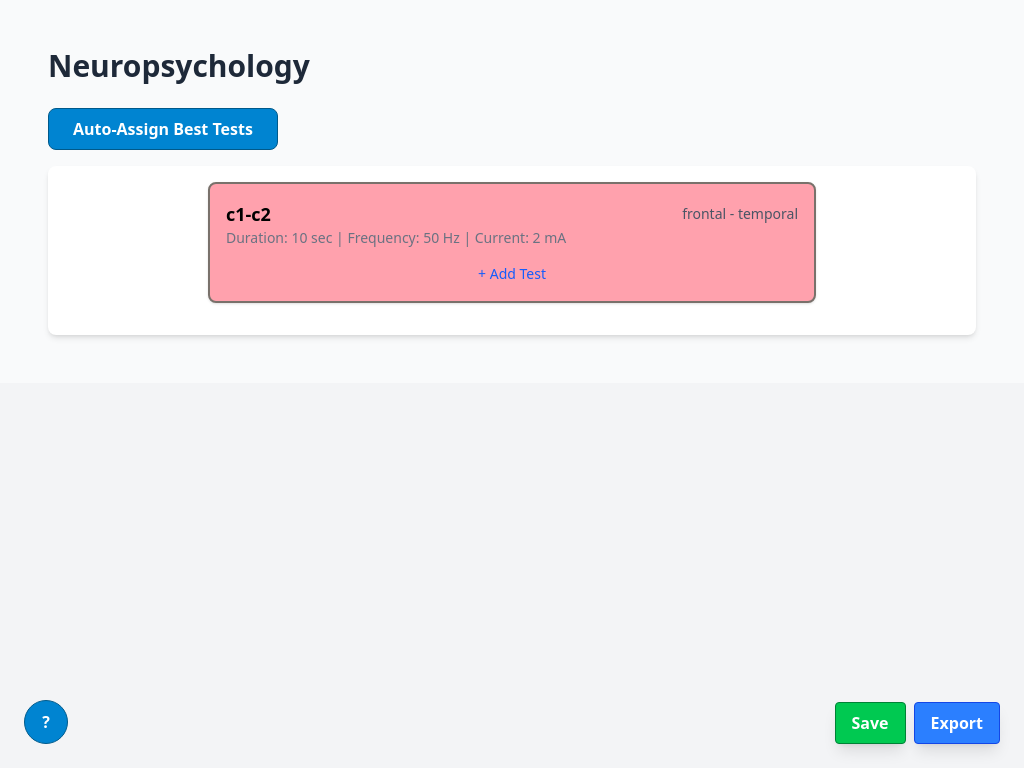
Test: FunctionalTestSelection › shows 'No tests available' in popup if none
The width and height of the screenshot is (1024, 768).
What coordinates should you click on to do the following:
click the button "+ Add Test"
I would click on:
 (512, 274)
Its box is [226,264,798,284].
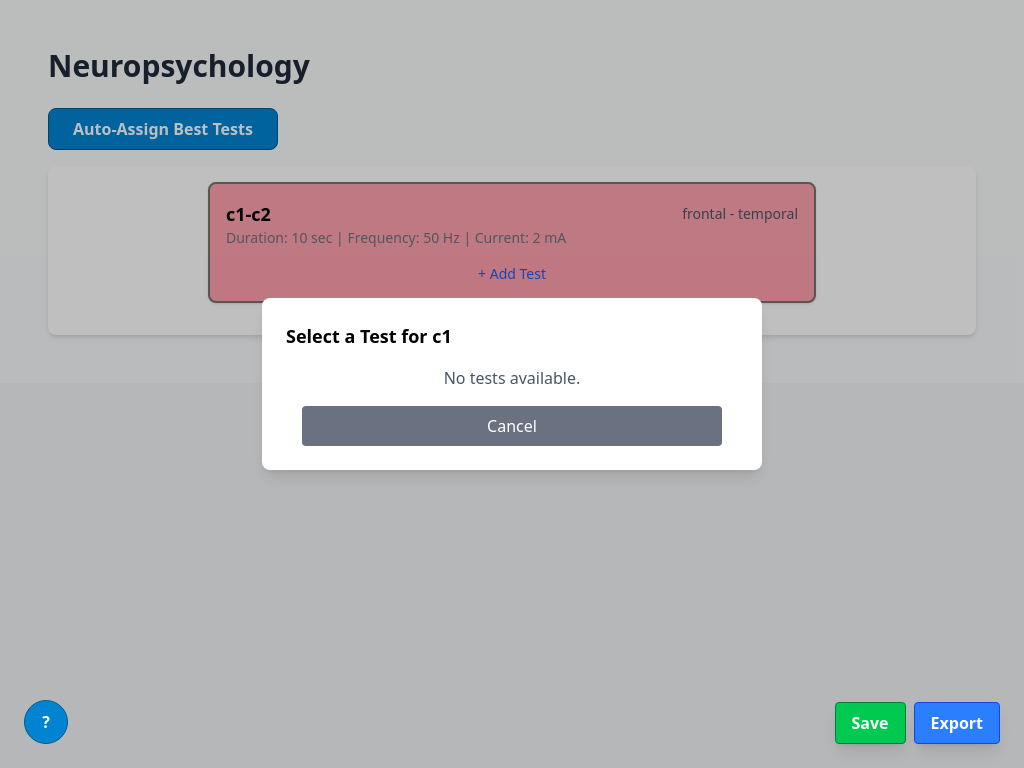
Check: the text "No tests available." is shown, box [444,367,580,389]
